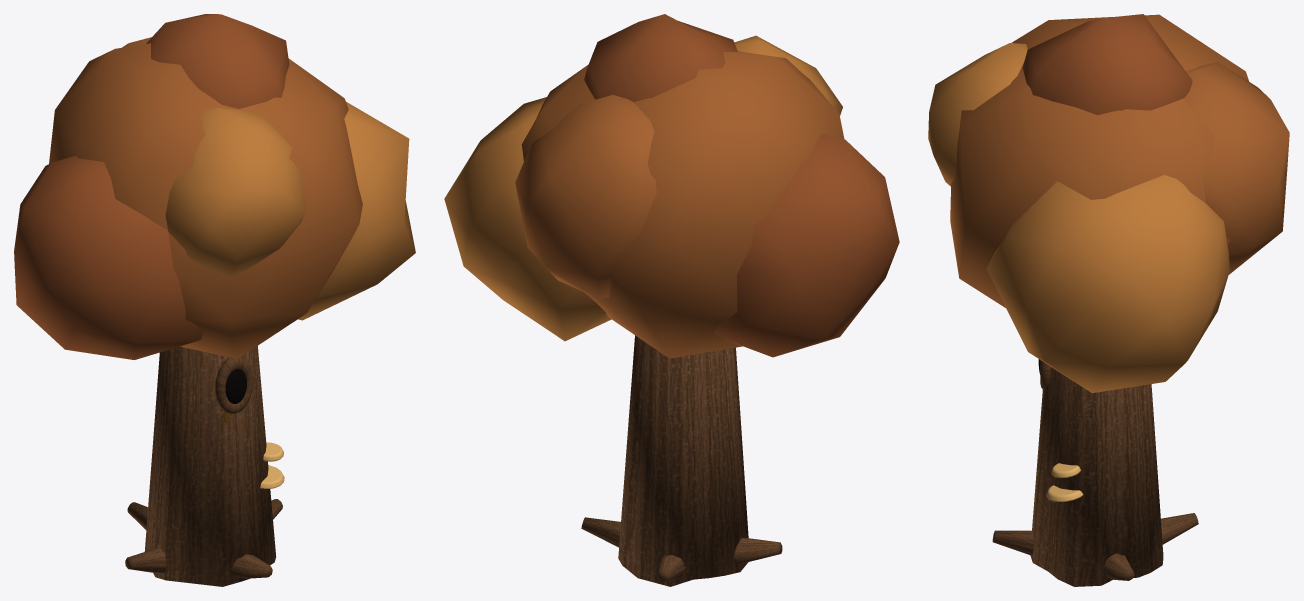
Rendered from beetree.glb.
3 views of the same model, side by side, from view 1: azimuth 30°, elevation 25°; view 2: azimuth 150°, elevation 25°; view 3: azimuth 270°, elevation 25° (orthographic).
Visible parts, largest first — view 1: bt_leaves, bt_leaves.002, bt_trunk, bt_leaves.004, bt_leaves.001, bt_leaves.005, bt_lip, bt_root.002, bt_root.003, bt_knot; view 2: bt_leaves, bt_trunk, bt_leaves.002, bt_leaves.003, bt_leaves.001, bt_leaves.005, bt_leaves.004, bt_root.002, bt_root, bt_root.001; view 3: bt_leaves.001, bt_leaves, bt_trunk, bt_leaves.003, bt_leaves.005, bt_leaves.004, bt_root.003, bt_root.001, bt_root.
Part boxes in pixels (x1=…): bt_leaves: x1=49, y1=43, x2=362, y2=358; bt_leaves.002: x1=14, y1=156, x2=203, y2=359; bt_trunk: x1=144, y1=346, x2=276, y2=586; bt_leaves.004: x1=165, y1=107, x2=305, y2=278; bt_leaves.001: x1=298, y1=102, x2=415, y2=320; bt_leaves.005: x1=146, y1=14, x2=289, y2=108; bt_lip: x1=215, y1=357, x2=253, y2=413; bt_root.002: x1=125, y1=548, x2=166, y2=573; bt_root.003: x1=231, y1=554, x2=272, y2=578; bt_knot: x1=225, y1=369, x2=246, y2=403; bt_leaves: x1=521, y1=51, x2=844, y2=358; bt_trunk: x1=618, y1=335, x2=748, y2=586; bt_leaves.002: x1=713, y1=133, x2=899, y2=357; bt_leaves.003: x1=515, y1=95, x2=656, y2=298; bt_leaves.001: x1=444, y1=97, x2=611, y2=341; bt_leaves.005: x1=584, y1=14, x2=737, y2=102; bt_leaves.004: x1=734, y1=35, x2=842, y2=115; bt_root.002: x1=734, y1=538, x2=782, y2=563; bt_root: x1=581, y1=517, x2=620, y2=547; bt_root.001: x1=657, y1=555, x2=685, y2=581; bt_leaves.001: x1=986, y1=175, x2=1229, y2=393; bt_leaves: x1=950, y1=14, x2=1248, y2=307; bt_trunk: x1=1030, y1=367, x2=1163, y2=586; bt_leaves.003: x1=1184, y1=62, x2=1289, y2=274; bt_leaves.005: x1=1022, y1=14, x2=1192, y2=115; bt_leaves.004: x1=928, y1=43, x2=1027, y2=186; bt_root.003: x1=992, y1=530, x2=1033, y2=555; bt_root.001: x1=1161, y1=513, x2=1198, y2=544; bt_root: x1=1103, y1=553, x2=1134, y2=580.
Size of the model in its own units: 4.36 by 5.93 by 3.43.
7 materials, 1 textured.
